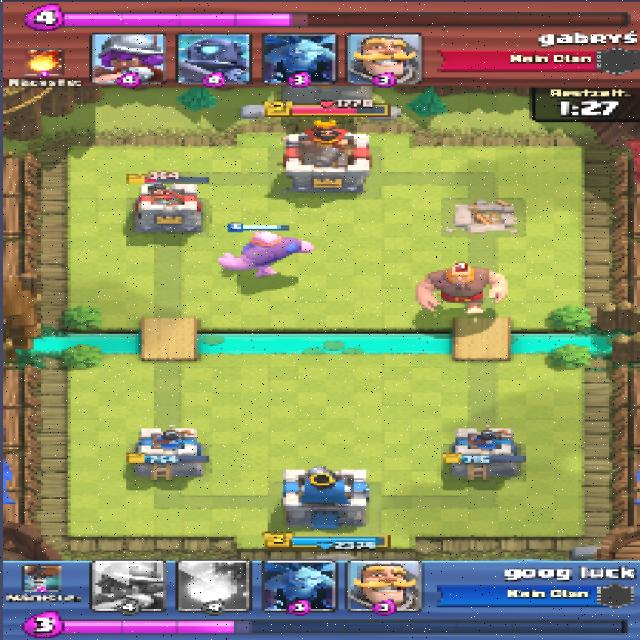Enemy-Giant: (414, 264, 509, 316)
Player-Giant: (217, 232, 313, 277)
